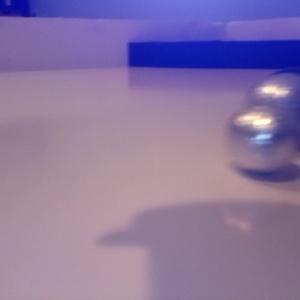alive_ball: (225, 105, 293, 173), (246, 69, 300, 152)
